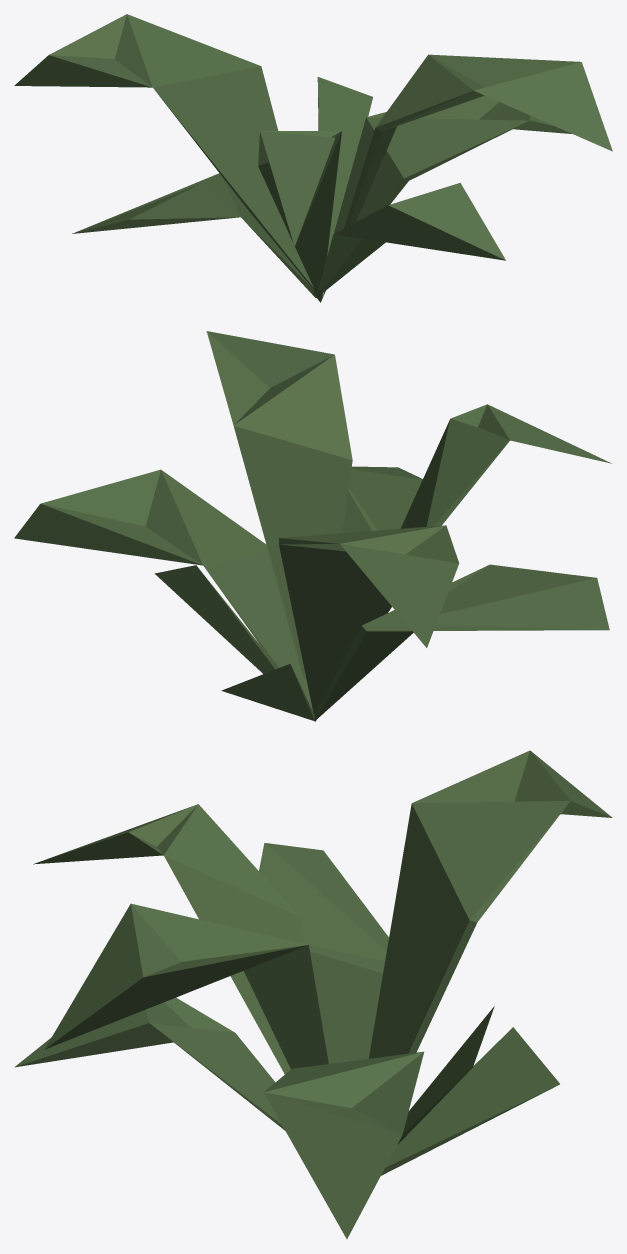
File: Plant_1.lod2.glb
3 views of the same model, one above another, from view 1: azimuth 30°, elevation 25°; view 2: azimuth 150°, elevation 25°; view 3: azimuth 270°, elevation 25° (orthographic). The views are drawn at different scales.
Visible parts, largest first — view 1: Plant_1; view 2: Plant_1; view 3: Plant_1.
Boxes of the visible parts, x1=… form: Plant_1: x1=14, y1=14, x2=612, y2=302; Plant_1: x1=14, y1=331, x2=611, y2=721; Plant_1: x1=14, y1=750, x2=612, y2=1238.
Size of the model in its own units: 1.1 by 0.5032 by 0.8225.
